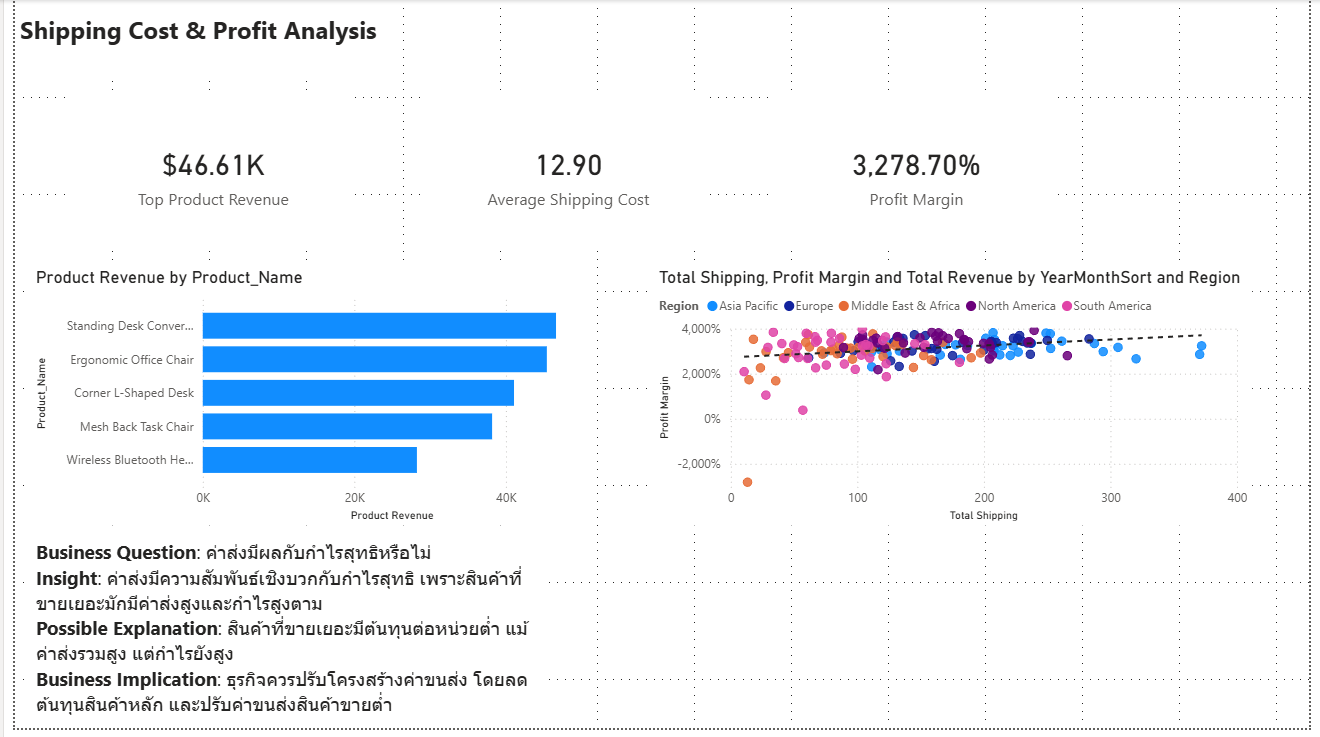

The page's visual inventory and layout, read from the dashboard file:
{"tool":"powerbi","page":{"name":"Shipping Cost & Profit Analysis","canvas":[1280,720],"ordinal":2},"visuals":[{"type":"card","fields":{"Values":["Measure Table.Top Product Revenue"]},"box":[56,96,280,152],"z":0},{"type":"card","fields":{"Values":["Measure Table.Average Shipping Cost"]},"box":[408,96,280,152],"z":1000},{"type":"clusteredBarChart","fields":{"Category":["global_ecommerce_sales.Product_Name"],"Y":["Measure Table.Product Revenue"]},"box":[16,264,560,256],"z":2000},{"type":"scatterChart","fields":{"Category":["Dim_Date.YearMonthSort"],"X":["Measure Table.Total Shipping"],"Y":["Measure Table.Profit Margin"],"Series":["Dim_Region.Region"]},"box":[632,264,592,256],"z":3000},{"type":"textbox","box":[16,528,512,192],"z":4000},{"type":"card","fields":{"Values":["Measure Table.Profit Margin"]},"box":[752,96,280,152],"z":5000},{"type":"textbox","box":[0,8,384,72],"z":5001}]}

Visuals, with their boxes in screenshot pixels (x1, y1, x2, y2), scaled from the page's 1280x720 canvas onto the 1320x737 screenshot:
card - Measure Table.Top Product Revenue: 58 98 346 254
card - Measure Table.Average Shipping Cost: 421 98 710 254
clusteredBarChart - global_ecommerce_sales.Product_Name x Measure Table.Product Revenue: 16 270 594 532
scatterChart - Dim_Date.YearMonthSort x Measure Table.Total Shipping: 652 270 1262 532
textbox: 16 540 544 736
card - Measure Table.Profit Margin: 776 98 1064 254
textbox: 0 8 396 82
